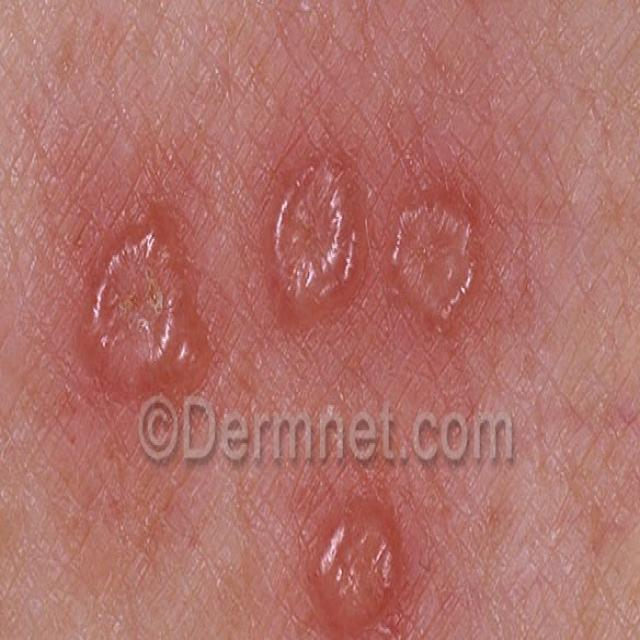Viral Infections: (71, 212, 218, 424), (254, 129, 372, 339), (386, 179, 497, 346), (298, 492, 419, 640)
